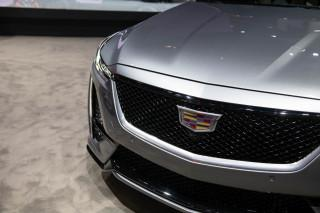cadillac: (173, 102, 223, 136)
